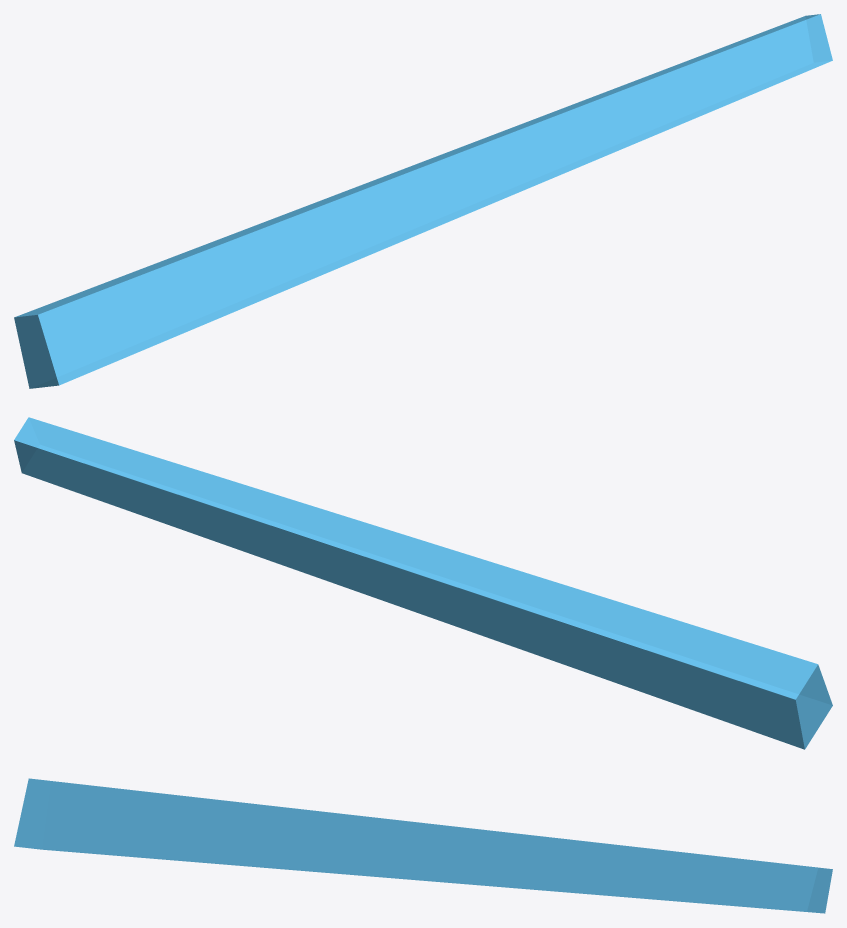
Rendered from Event_420094457_HErechit_62.fbx.
3 views of the same model, one above another, from view 1: azimuth 30°, elevation 25°; view 2: azimuth 150°, elevation 25°; view 3: azimuth 330°, elevation 25° (orthographic). The views are drawn at different scales.
Visible parts, largest first — view 1: Model; view 2: Model; view 3: Model.
Boxes of the visible parts, x1,y1,x2,y2 form: Model: [14, 14, 832, 388]; Model: [14, 417, 832, 749]; Model: [14, 778, 832, 913].
Bounding box in the file's own units: 5.79 × 1.14 × 0.7504.
